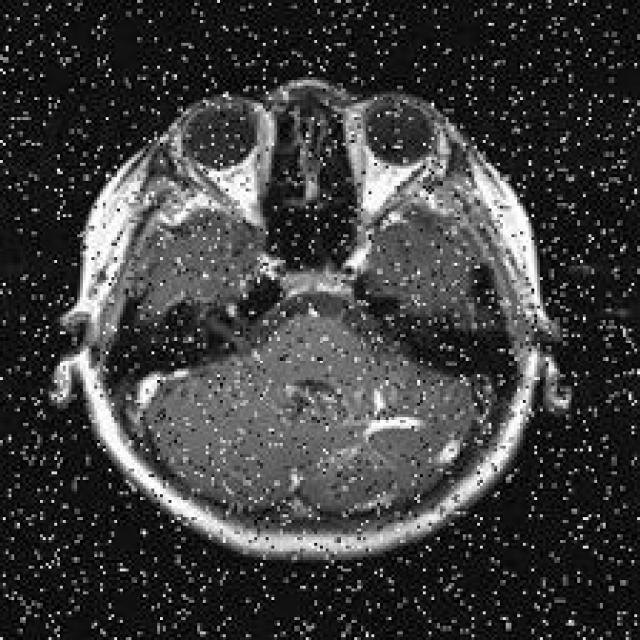no_tumor: (34, 69, 579, 571)
